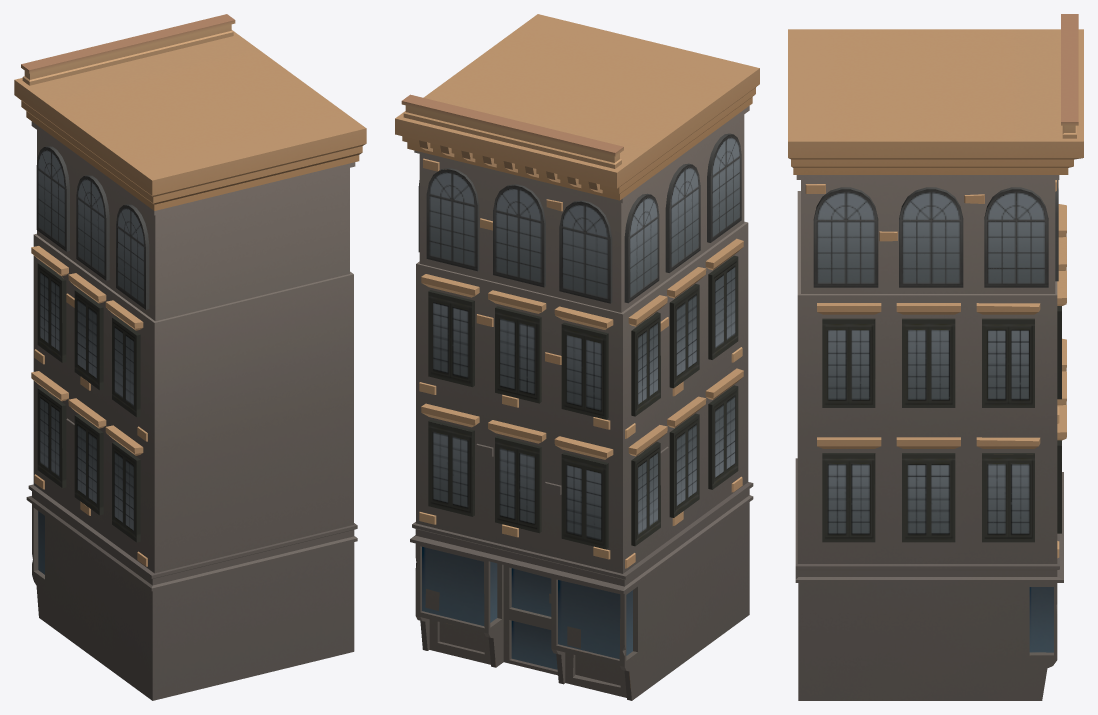
The model's file is BLD1210007.fbx.
3 renders of one model, left to right at view 1: azimuth 30°, elevation 25°; view 2: azimuth 150°, elevation 25°; view 3: azimuth 270°, elevation 25°, orthographic. The views are drawn at different scales.
Parts seen in each view (by area): view 1: smBLD1210007; view 2: smBLD1210007; view 3: smBLD1210007.
Boxes of the visible parts, x1=… form: smBLD1210007: x1=14, y1=14, x2=366, y2=700; smBLD1210007: x1=395, y1=14, x2=759, y2=700; smBLD1210007: x1=788, y1=14, x2=1083, y2=700.
Size of the model in its own units: 632 by 1518 by 700.
1 material, 1 textured.
